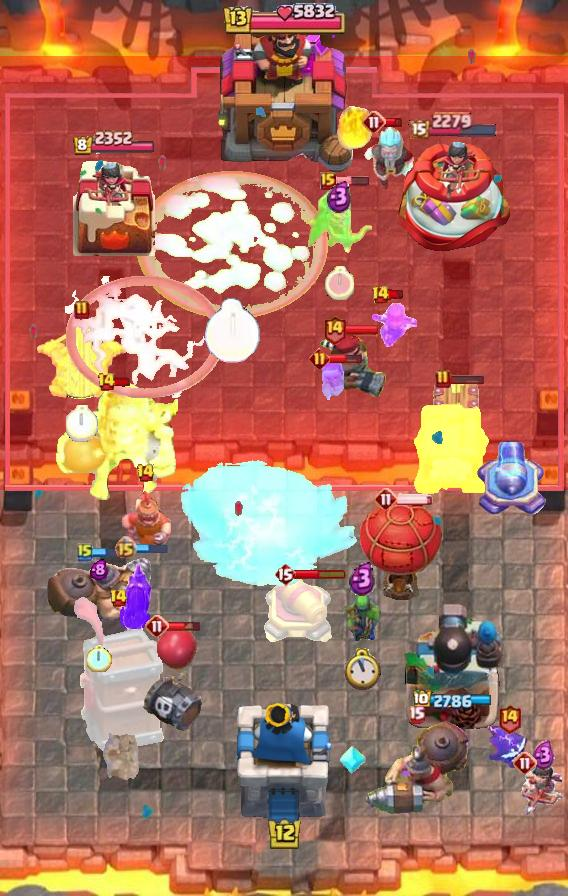barbarian-evolution: (65, 276, 223, 398)
barbarian-hut: (303, 181, 375, 255)
bomb: (411, 401, 491, 495)
cannon-cart: (360, 498, 444, 600)
clock: (221, 0, 347, 40)
dart-goblin: (72, 596, 163, 754)
earthquake: (119, 484, 171, 552)
electro-giant: (54, 380, 178, 504)
electro-spirit: (349, 560, 375, 595), (328, 180, 353, 212), (533, 741, 556, 771), (90, 560, 108, 581)
elixir: (204, 298, 261, 364), (343, 649, 381, 692), (66, 405, 98, 442), (326, 266, 355, 300), (87, 644, 112, 672)
emote: (293, 568, 346, 580), (396, 493, 434, 505), (334, 175, 370, 187), (344, 324, 380, 336), (328, 353, 364, 365), (449, 373, 485, 385), (135, 542, 170, 554), (91, 546, 126, 558), (167, 620, 202, 632), (113, 376, 132, 388), (384, 117, 404, 128), (387, 288, 405, 300)
evolution-symbol: (367, 300, 417, 350)
fisherman: (101, 730, 139, 780)
giant-snowball: (342, 587, 382, 645)
goblin: (321, 359, 345, 403)
goblin-ball: (120, 552, 156, 646)
goblin-brawler: (432, 379, 482, 419)
king-tower: (211, 7, 357, 181), (235, 703, 333, 826)
lava-pup: (33, 320, 131, 402)
mega-knight: (176, 457, 360, 593)
mortar: (361, 125, 419, 193)
pad_2: (339, 744, 367, 776)
phoenix-big: (135, 168, 329, 319)
phoenix-small: (318, 331, 388, 399)
queen-tower: (390, 137, 516, 255), (73, 156, 155, 256)
royal-recruit: (475, 437, 549, 521), (261, 573, 333, 647)
royal-recruit-evolution: (141, 627, 207, 731)
selected: (409, 111, 500, 139), (72, 130, 156, 157), (414, 689, 495, 711)
skeleton-dragon: (521, 760, 565, 820)
spear-goblin: (488, 726, 530, 772)
text: (321, 315, 346, 346), (497, 702, 522, 733), (362, 110, 386, 134), (374, 487, 398, 511), (114, 536, 138, 560), (145, 614, 169, 638), (513, 751, 537, 775), (274, 562, 296, 586), (309, 348, 330, 369), (370, 285, 390, 305), (97, 372, 116, 392), (136, 463, 155, 483), (108, 588, 127, 608), (74, 300, 90, 320), (435, 369, 451, 389), (77, 542, 93, 562), (407, 705, 424, 723), (320, 172, 336, 190)
tower-bar: (403, 601, 503, 731)
valkyrie: (333, 94, 379, 152)
wizard: (360, 719, 472, 817), (43, 555, 155, 625)
